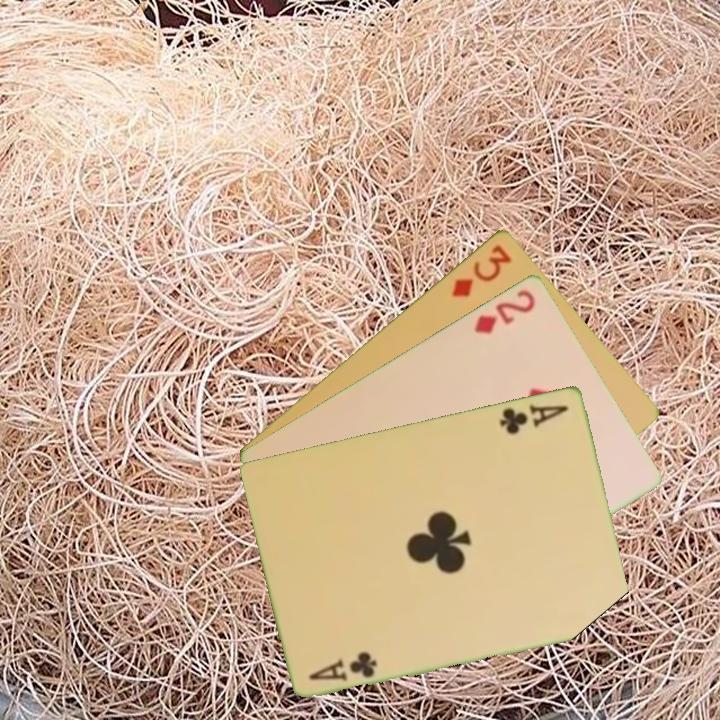2d: (470, 285, 539, 337)
3d: (448, 240, 515, 300)
Ac: (496, 400, 572, 437), (305, 648, 381, 683)
